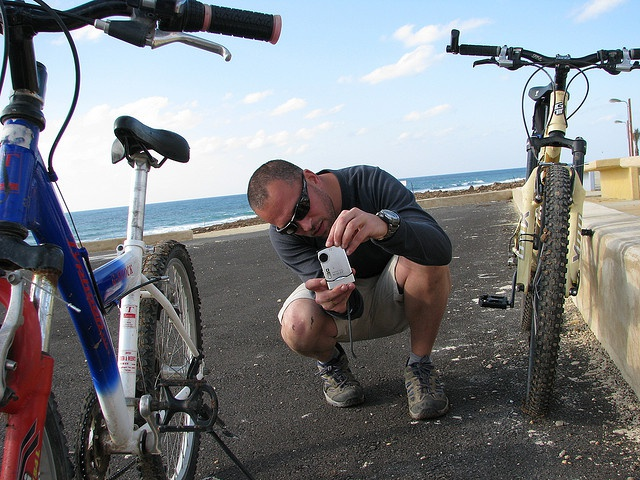non-vehicle: (0, 0, 280, 475), (442, 26, 640, 423)
